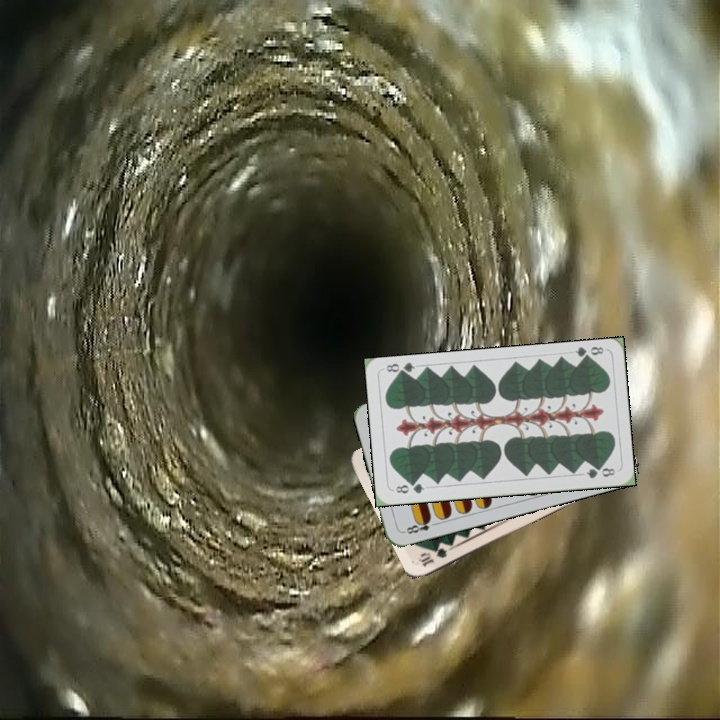E8: (400, 514, 440, 536)
G10: (415, 541, 454, 570)
G8: (571, 342, 606, 363), (391, 479, 427, 496)
